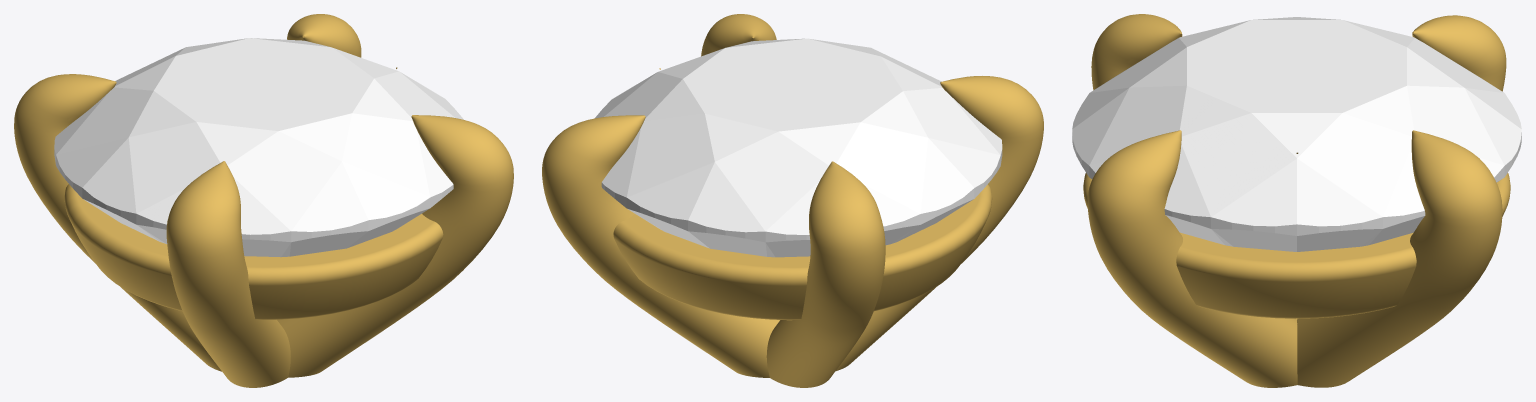
The model's file is Round_weight_2.0_prong.glb.
3 views of the same model, side by side, from view 1: azimuth 30°, elevation 25°; view 2: azimuth 150°, elevation 25°; view 3: azimuth 270°, elevation 25° (orthographic). The views are drawn at different scales.
Parts seen in each view (by area): view 1: Diamond_Round, /Round 2.0.3dm; view 2: Diamond_Round, /Round 2.0.3dm; view 3: Diamond_Round, /Round 2.0.3dm.
Part boxes in pixels (bbox=[...]): Diamond_Round: bbox=[54, 38, 463, 257]; /Round 2.0.3dm: bbox=[14, 14, 513, 387]; Diamond_Round: bbox=[594, 38, 1002, 257]; /Round 2.0.3dm: bbox=[542, 14, 1043, 387]; Diamond_Round: bbox=[1072, 17, 1521, 251]; /Round 2.0.3dm: bbox=[1083, 14, 1510, 387].
Bounding box in the file's own units: 2.51 × 1.84 × 2.51.
